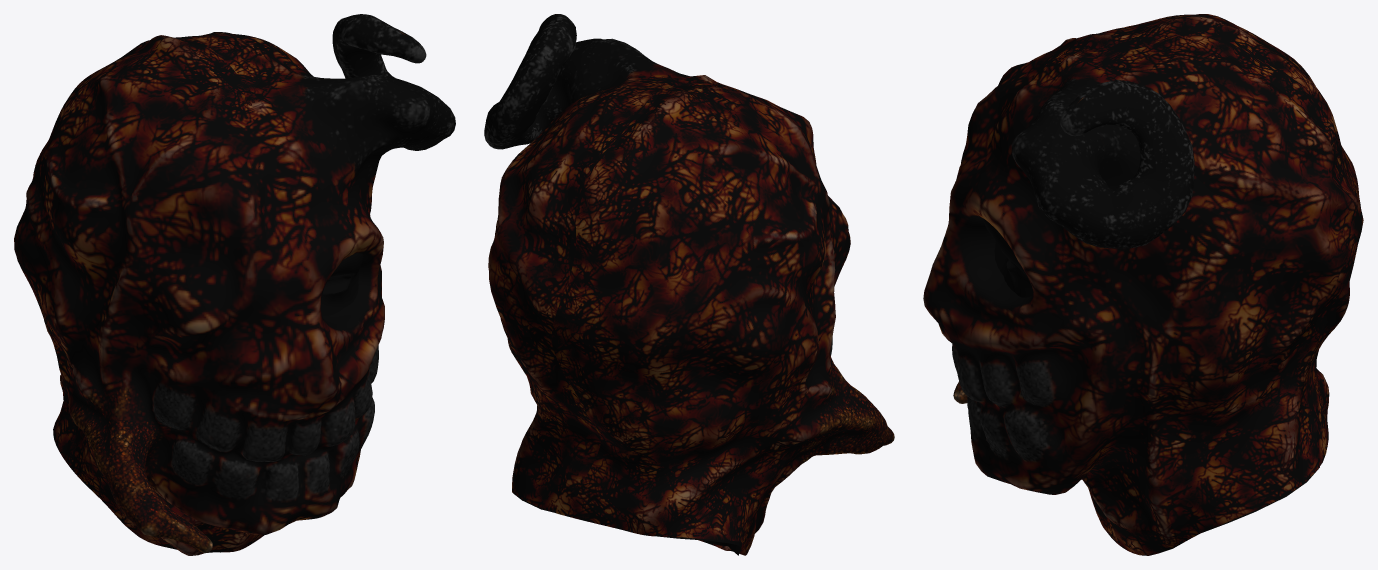
The model's file is ugly_demon_mask_-_badly.glb.
The picture shows the model from 3 angles, left to right: view 1: azimuth 30°, elevation 25°; view 2: azimuth 150°, elevation 25°; view 3: azimuth 270°, elevation 25°; orthographic projection. The views are drawn at different scales.
Visible parts, largest first — view 1: Object_3, Object_2; view 2: Object_3; view 3: Object_3, Object_2.
Part boxes in pixels (x1=…): Object_3: x1=14, y1=14, x2=455, y2=555; Object_2: x1=53, y1=98, x2=362, y2=429; Object_3: x1=484, y1=14, x2=894, y2=555; Object_3: x1=923, y1=14, x2=1363, y2=555; Object_2: x1=982, y1=219, x2=1319, y2=532.
Size of the model in its own units: 2.04 by 2.68 by 2.05.
2 materials, 1 textured.
